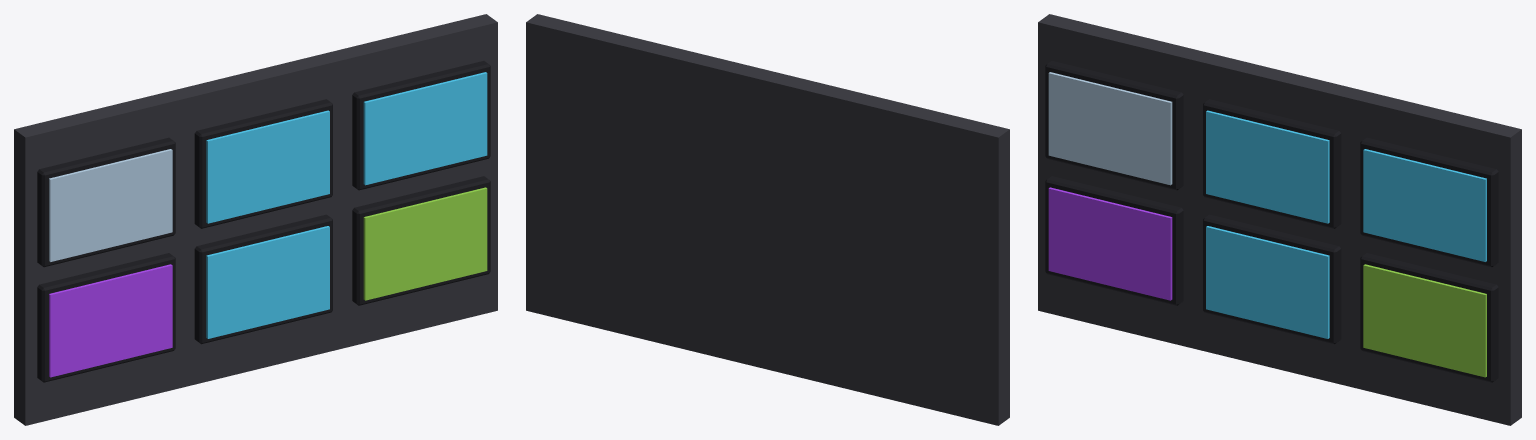
File: TVWall.fbx
The picture shows the model from 3 angles, left to right: view 1: azimuth 30°, elevation 25°; view 2: azimuth 150°, elevation 25°; view 3: azimuth 330°, elevation 25°; orthographic projection.
Visible parts, largest first — view 1: TVWall; view 2: TVWall; view 3: TVWall.
Part boxes in pixels (box(x1,y1,x2,y2)): TVWall: box(14, 14, 497, 425); TVWall: box(526, 14, 1009, 425); TVWall: box(1038, 14, 1521, 425).
Bounding box in the file's own units: 12 × 7 × 0.82.
1 material, 1 textured.
